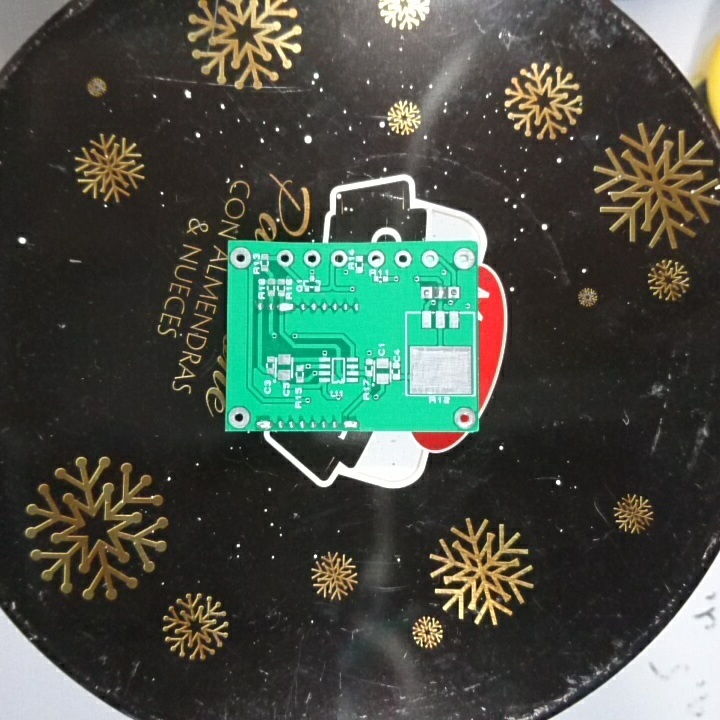F: (450, 245, 478, 272), (228, 246, 253, 272), (450, 405, 477, 429), (226, 405, 252, 428), (391, 248, 416, 271), (419, 246, 441, 271), (367, 247, 387, 272), (275, 248, 296, 270), (302, 249, 323, 269), (329, 249, 347, 269), (445, 283, 463, 303), (418, 284, 435, 303)
P: (275, 298, 298, 316), (253, 415, 275, 432), (340, 416, 361, 431)
